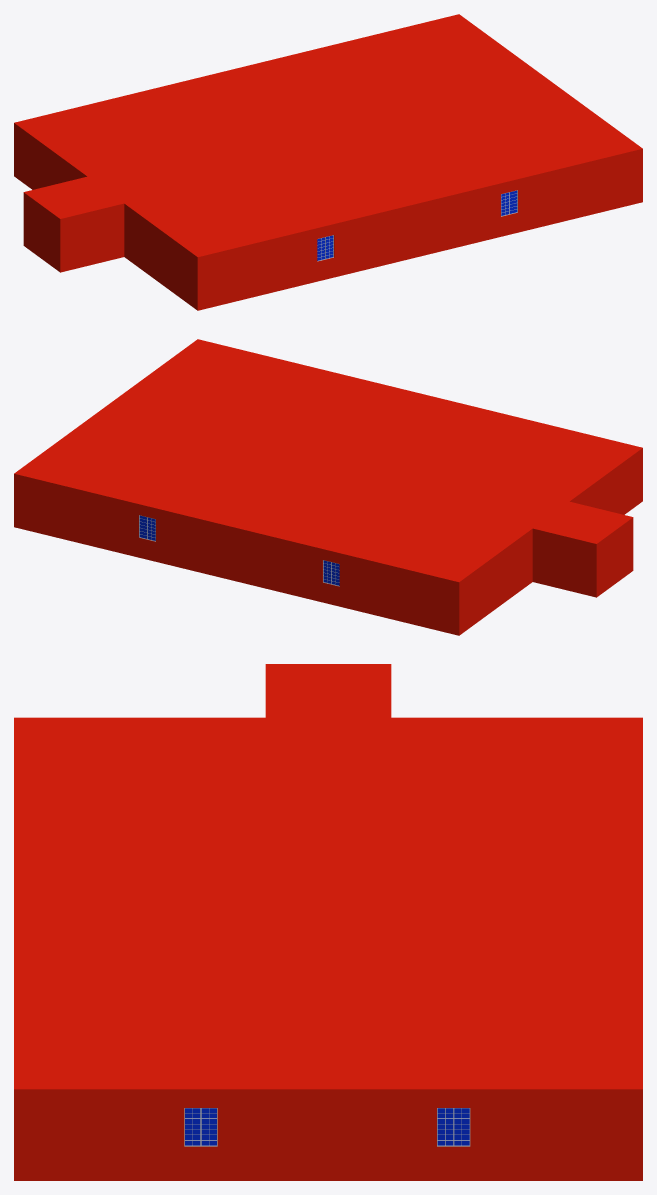
Rendered from RedBaron.fbx.
3 views of the same model, one above another, from view 1: azimuth 30°, elevation 25°; view 2: azimuth 150°, elevation 25°; view 3: azimuth 270°, elevation 25° (orthographic). The views are drawn at different scales.
Parts seen in each view (by area): view 1: TheRedBaron.019; view 2: TheRedBaron.019; view 3: TheRedBaron.019.
Boxes of the visible parts, <box> form: TheRedBaron.019: <box>14,14,642,310</box>; TheRedBaron.019: <box>14,339,642,635</box>; TheRedBaron.019: <box>14,664,642,1180</box>.
Bounding box in the file's own units: 3185 × 320 × 1991.
